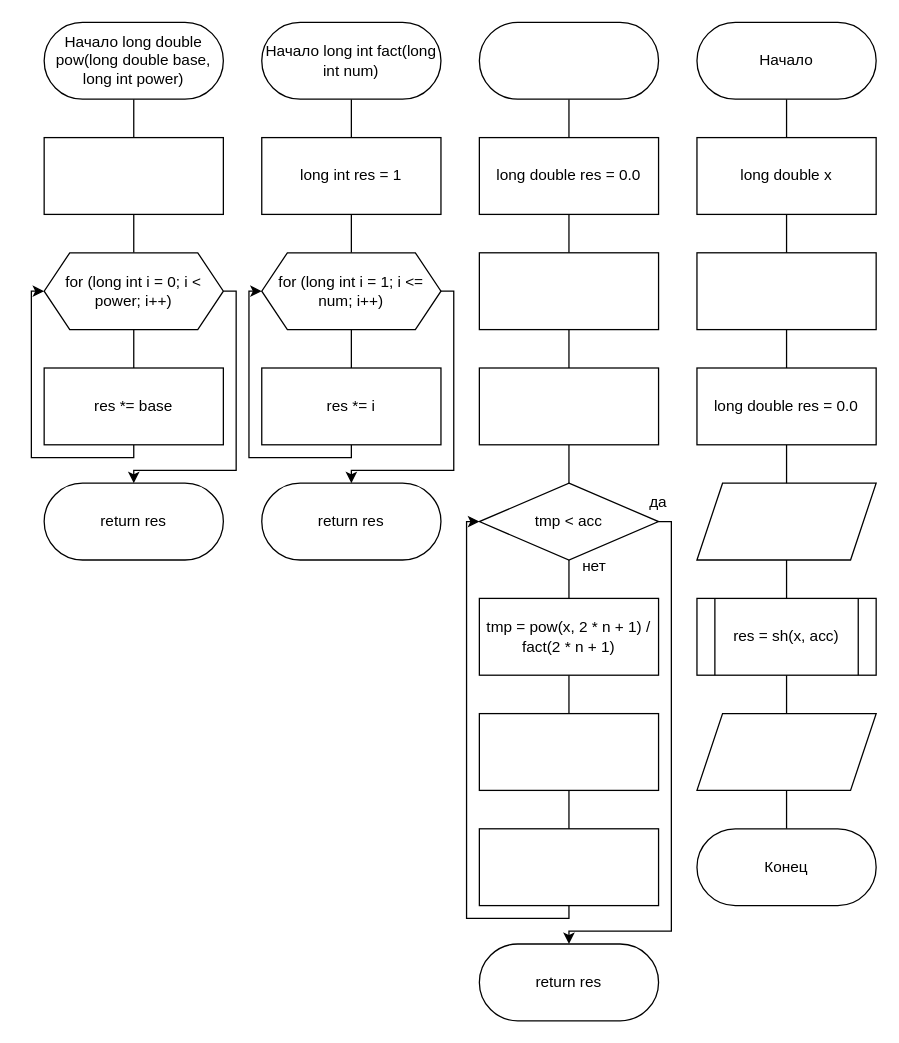
The diagram is 899 pixels wide and 1043 high, and some of its shapes have lost their labels. Here are the shapes that lost their labels. From the top down, the centre of each, then its label:
(x=568, y=60): Начало long double sh(long double x, long double acc)
(x=133, y=175): long double res = 1.0
(x=568, y=291): long double tmp = 1.0
(x=786, y=291): long double acc
(x=568, y=406): long int n = 0
(x=786, y=521): scanf("%Lf %Lf", &x, &acc)
(x=568, y=751): res += tmp
(x=786, y=751): printf("%Lf", res)
(x=568, y=867): n++
